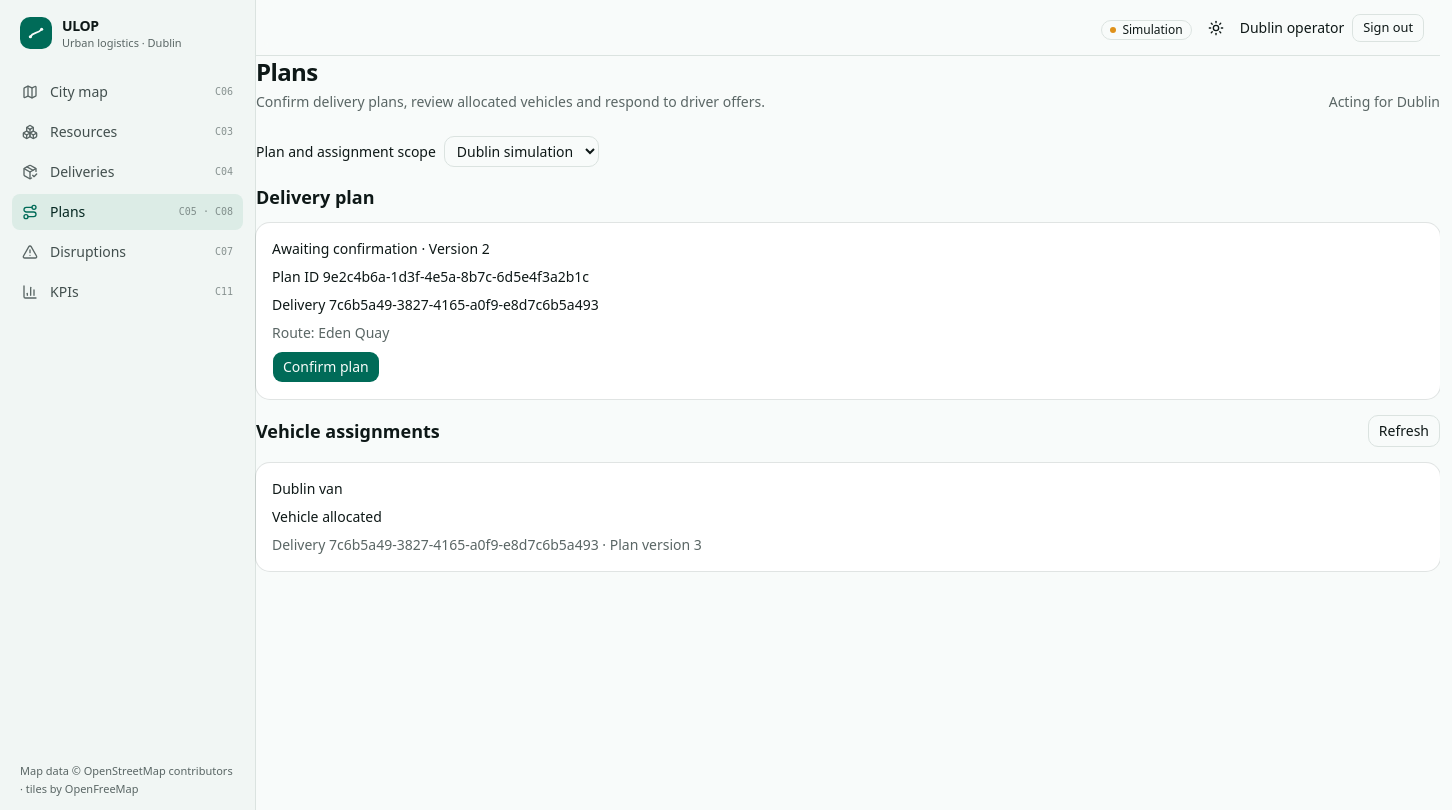
Test case: keeps the allocation hint in the confirmed run until the matching assignment is visible
Click the button "Confirm plan": (326, 367) [272,351,380,383]
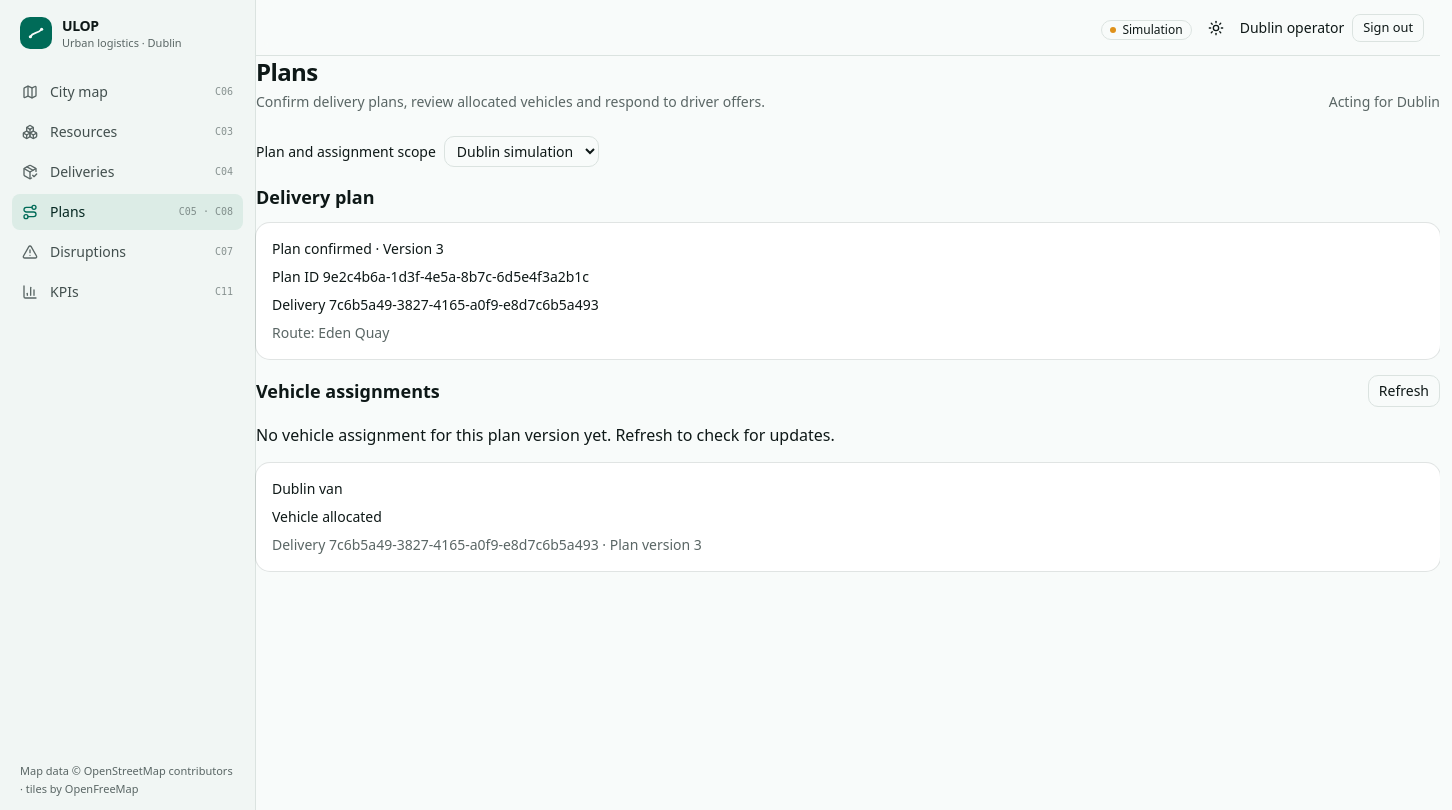
Result: the text "No vehicle assignment for this plan version yet. Refresh to check for updates." is shown at [256,424,835,446]
Select "Live" in the dropdown labelled "Plan and assignment scope": (521, 152) [444,136,599,167]
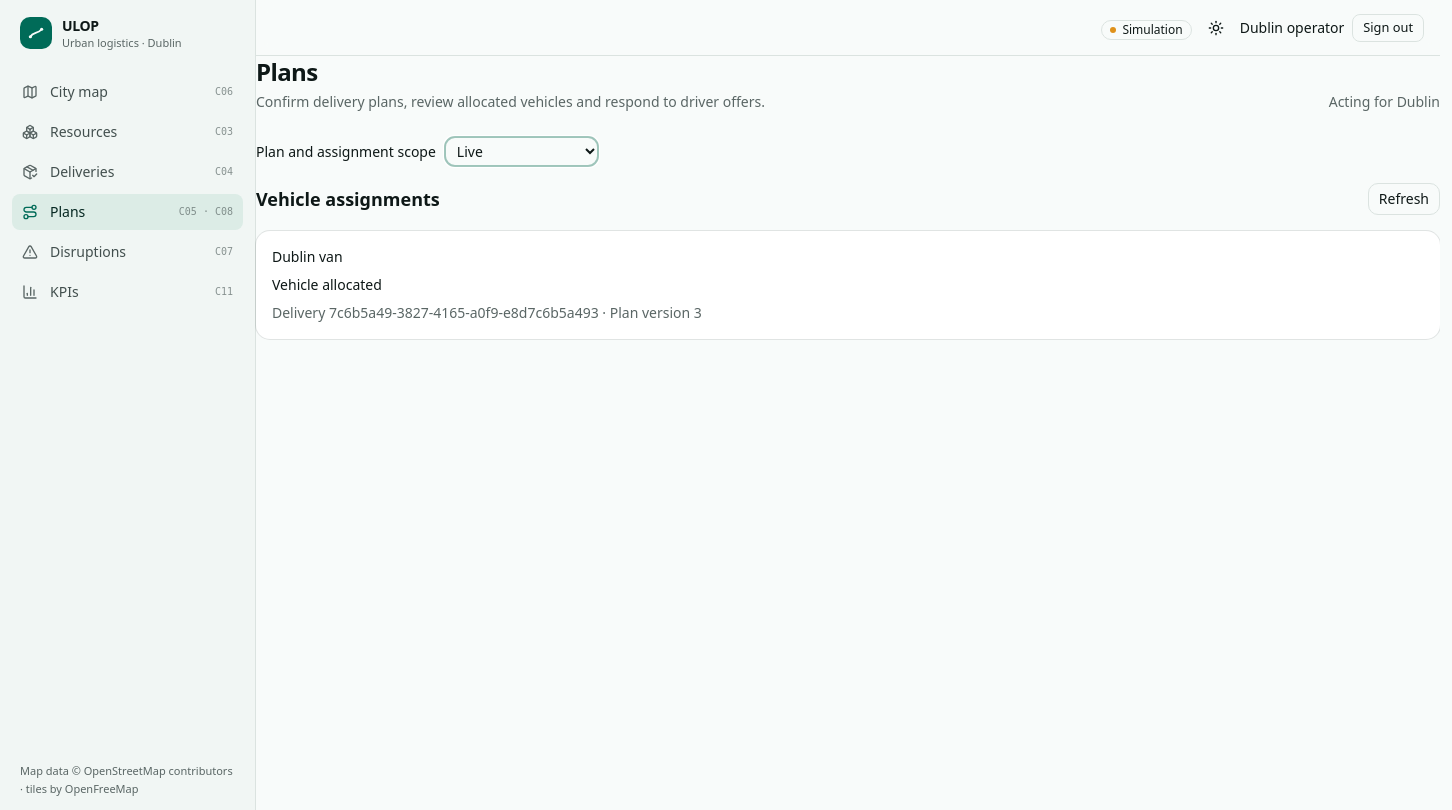
Result: the text "No vehicle assignment for this plan version yet" is gone
Select "Dublin simulation" in the dropdown labelled "Plan and assignment scope": (521, 152) [444,136,599,167]
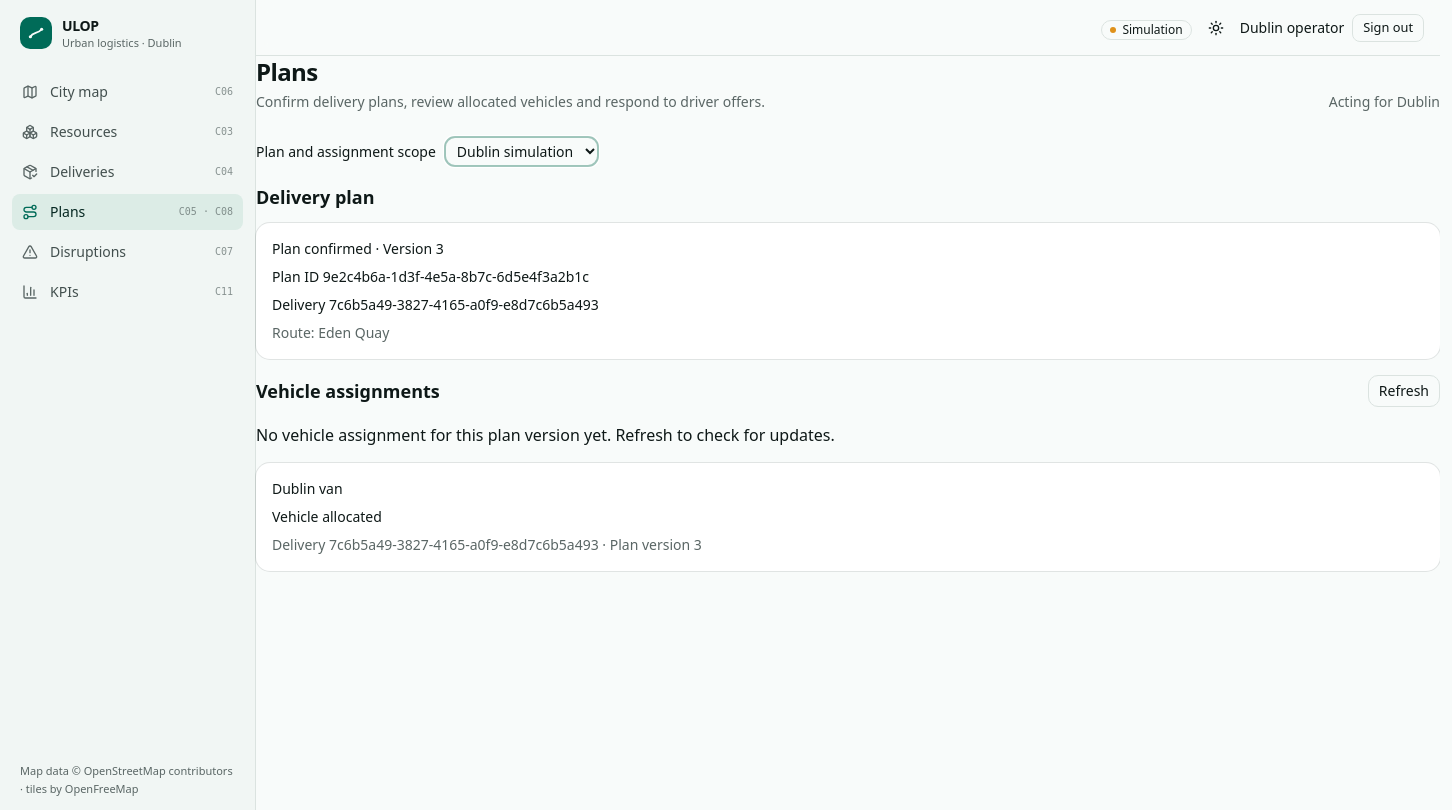
Result: the text "No vehicle assignment for this plan version yet. Refresh to check for updates." is shown at [256,424,835,446]
Click the button "Refresh": (1404, 391) [1368,375,1440,407]
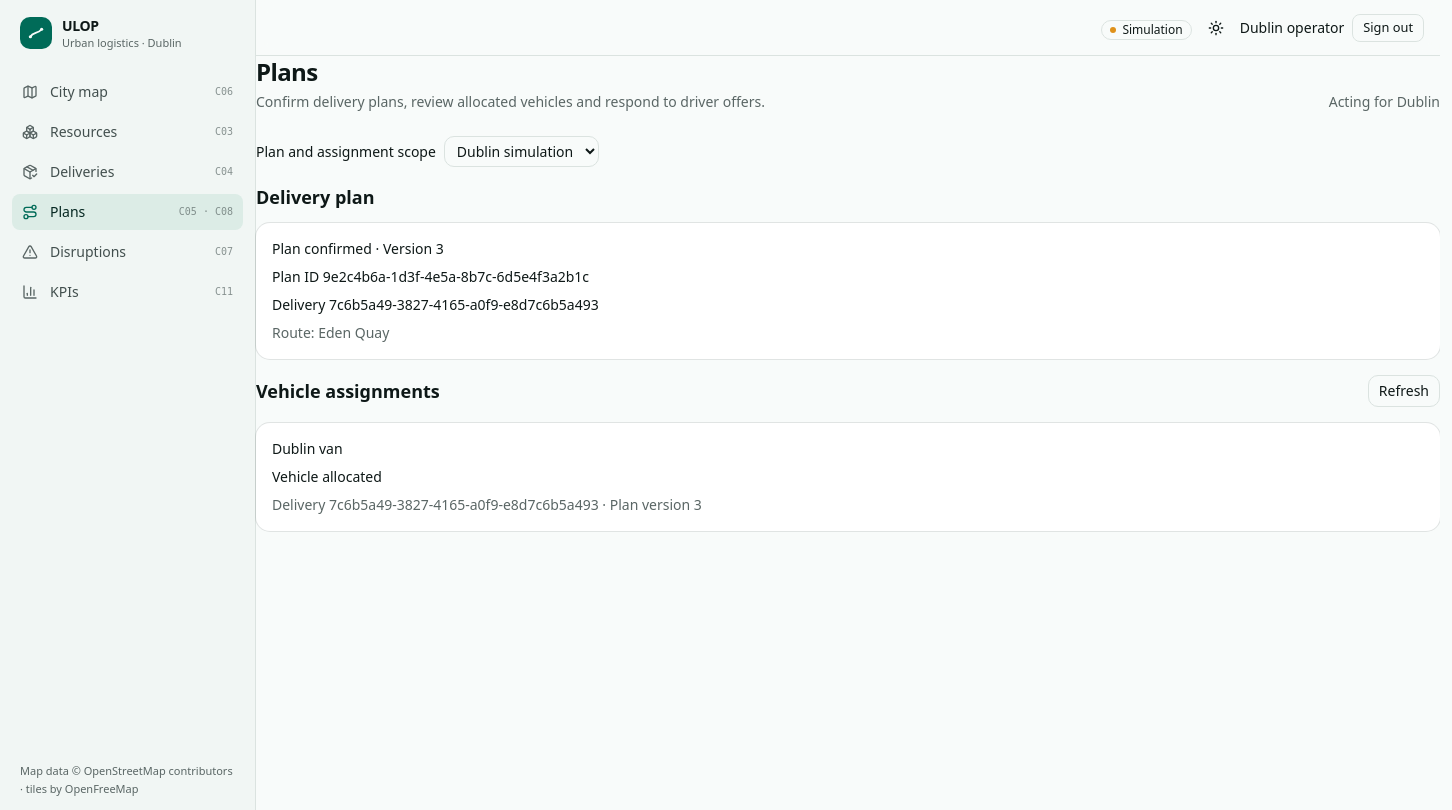
Expected: the text "Vehicle allocated" is shown, [272,467,382,486]
Result: the text "No vehicle assignment for this plan version yet" is gone
